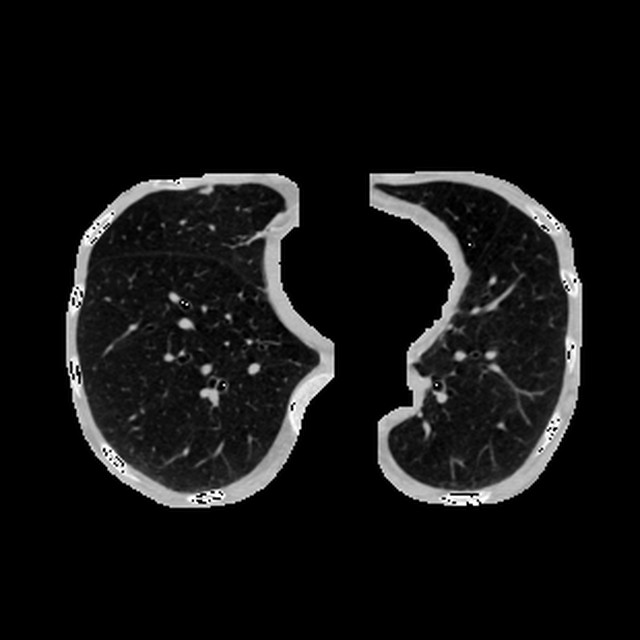PN: (200, 186, 209, 194)
